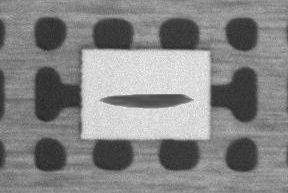DIE_INK: (125, 60, 288, 76)
